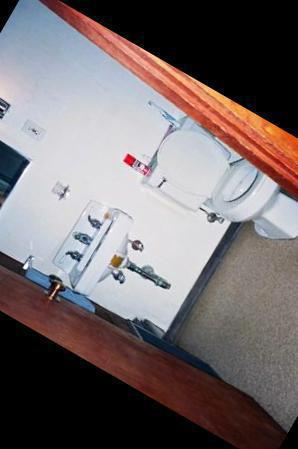Lavamanos: (43, 183, 203, 331)
Puerta: (0, 197, 293, 449)
Sanitario: (128, 107, 298, 264)
